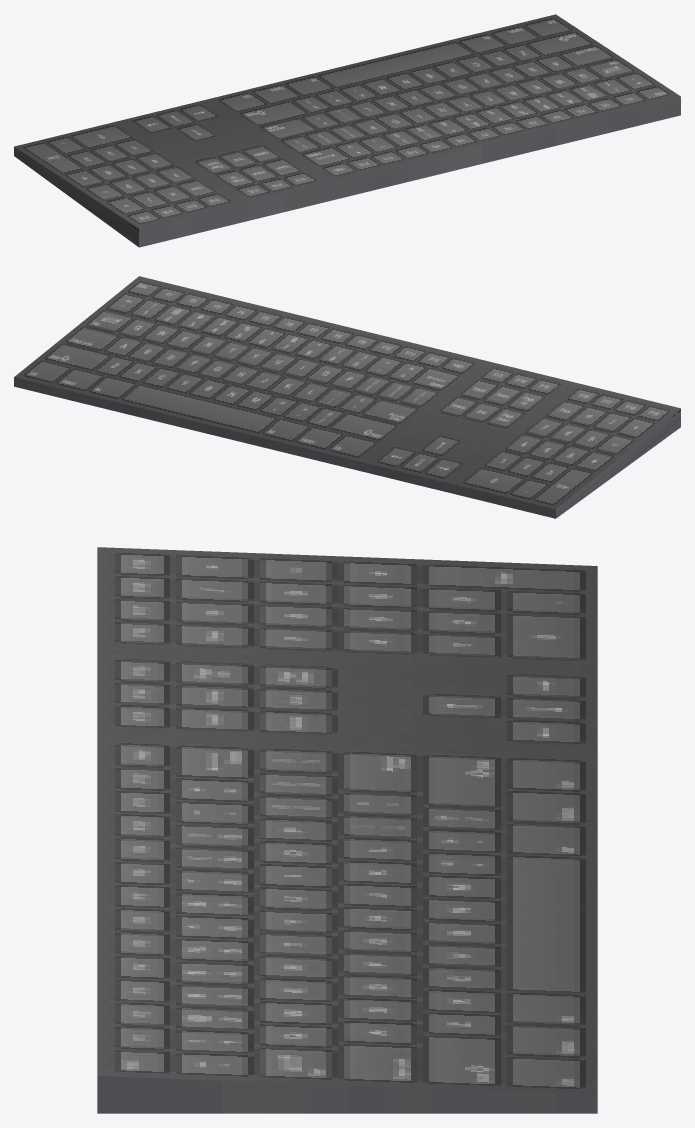
File: computer_keyboard.gltf
The picture shows the model from 3 angles, top to bottom: view 1: azimuth 30°, elevation 25°; view 2: azimuth 150°, elevation 25°; view 3: azimuth 270°, elevation 25°; orthographic projection. The views are drawn at different scales.
Visible parts, largest first — view 1: cuboid; view 2: cuboid; view 3: cuboid.
Part boxes in pixels (x1,y1,x2,y2): cuboid: (14,14,680,247); cuboid: (14,276,680,518); cuboid: (97,547,597,1113).
Bounding box in the file's own units: 1.88 × 0.0625 × 0.75.
2 materials, 2 textured.
